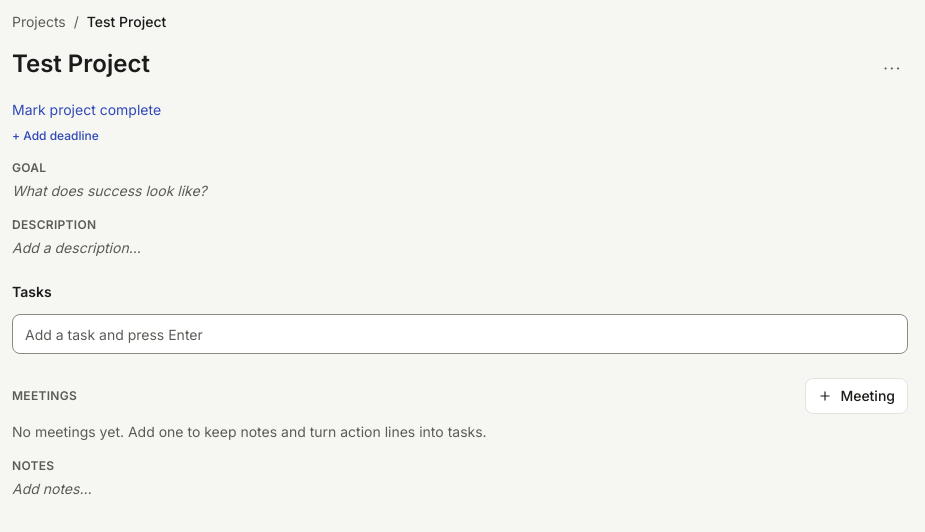
Test: ItemDetailView — InlineDeadline editor › clicking "Add deadline" opens date input
The image size is (925, 532).
Click the button "+ Add deadline".
click(55, 136)  # box [12,128,99,144]
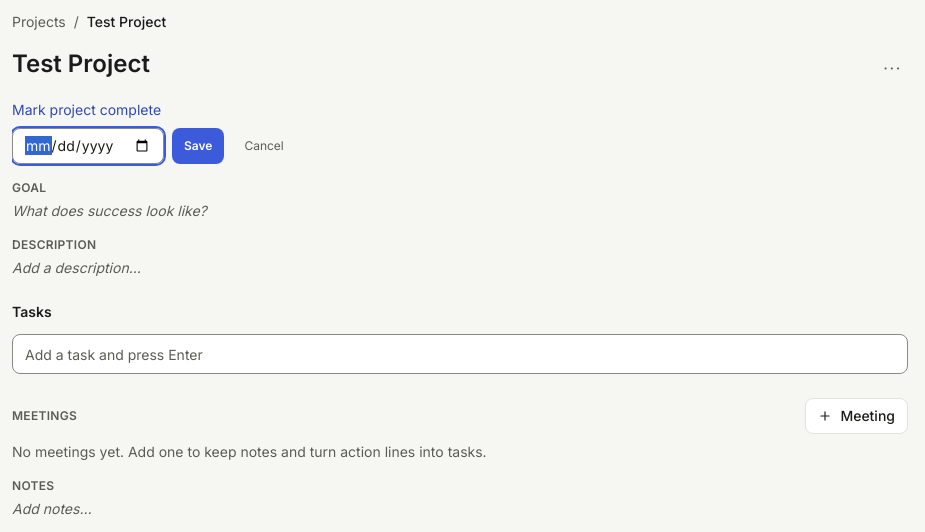
Expected: the date field named "project deadline" is shown, [12,128,164,164]
Expected: the button "Save" is shown, [172,128,224,164]
